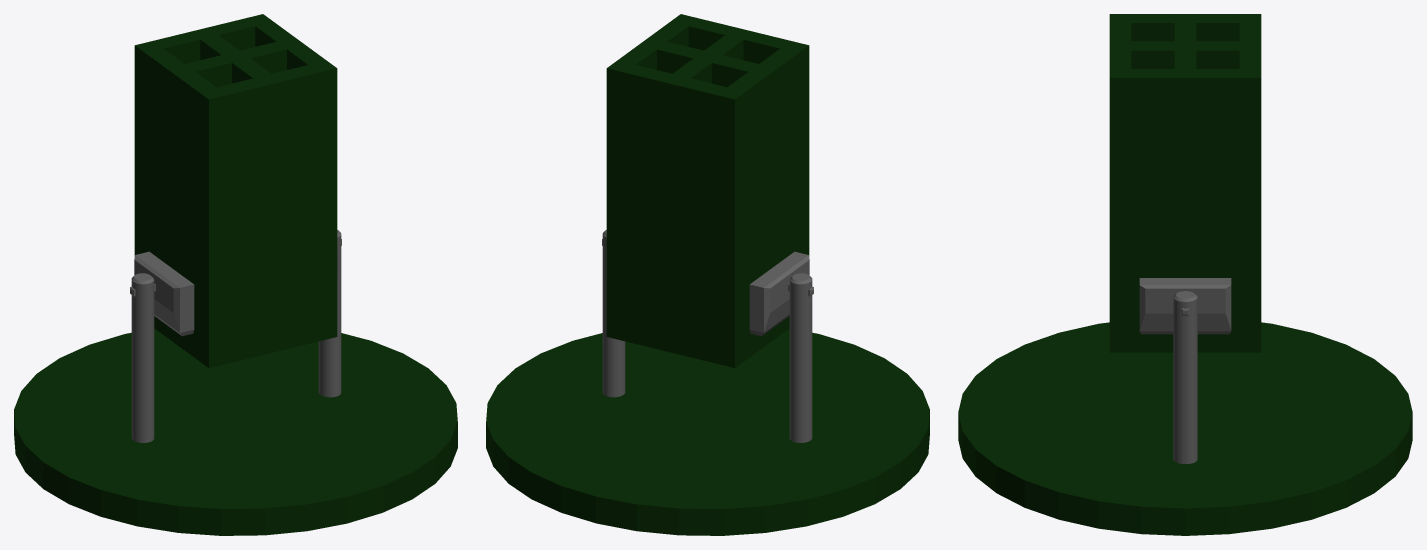
The model's file is missileLaucherGLTF.gltf.
3 views of the same model, side by side, from view 1: azimuth 30°, elevation 25°; view 2: azimuth 150°, elevation 25°; view 3: azimuth 270°, elevation 25° (orthographic). The views are drawn at different scales.
Parts seen in each view (by area): view 1: Cylinder, Cube, Cylinder.001, Cube.001; view 2: Cylinder, Cube, Cylinder.001, Cube.001; view 3: Cylinder, Cube, Cube.001, Cylinder.001.
Part boxes in pixels (x1,y1,x2,y2): Cylinder: [14, 328, 457, 535]; Cube: [134, 14, 337, 367]; Cylinder.001: [131, 230, 341, 442]; Cube.001: [130, 239, 341, 336]; Cylinder: [486, 328, 929, 535]; Cube: [606, 14, 809, 367]; Cylinder.001: [602, 230, 812, 442]; Cube.001: [602, 239, 813, 336]; Cylinder: [958, 322, 1412, 535]; Cube: [1109, 14, 1261, 352]; Cube.001: [1139, 278, 1231, 334]; Cylinder.001: [1173, 291, 1197, 464].
Bounding box in the file's own units: 6 × 5.74 × 6.
